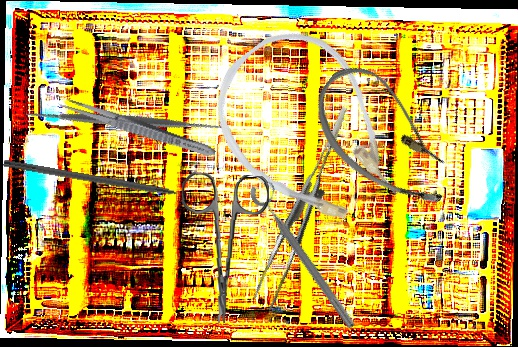Cannula: (188, 8, 429, 259), (294, 52, 479, 223)
Dressing Forceps: (58, 95, 218, 161)
Fixation Ring: (245, 174, 368, 333)
Hook Surgical: (2, 159, 204, 204)
Iris Scissors: (175, 171, 270, 326)
Spatula Surgical: (18, 15, 231, 227)
Tissue Forceps: (233, 106, 380, 311)
